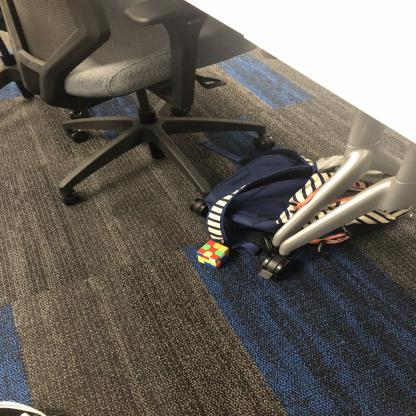UnsolvedCube: (194, 239, 230, 266)
